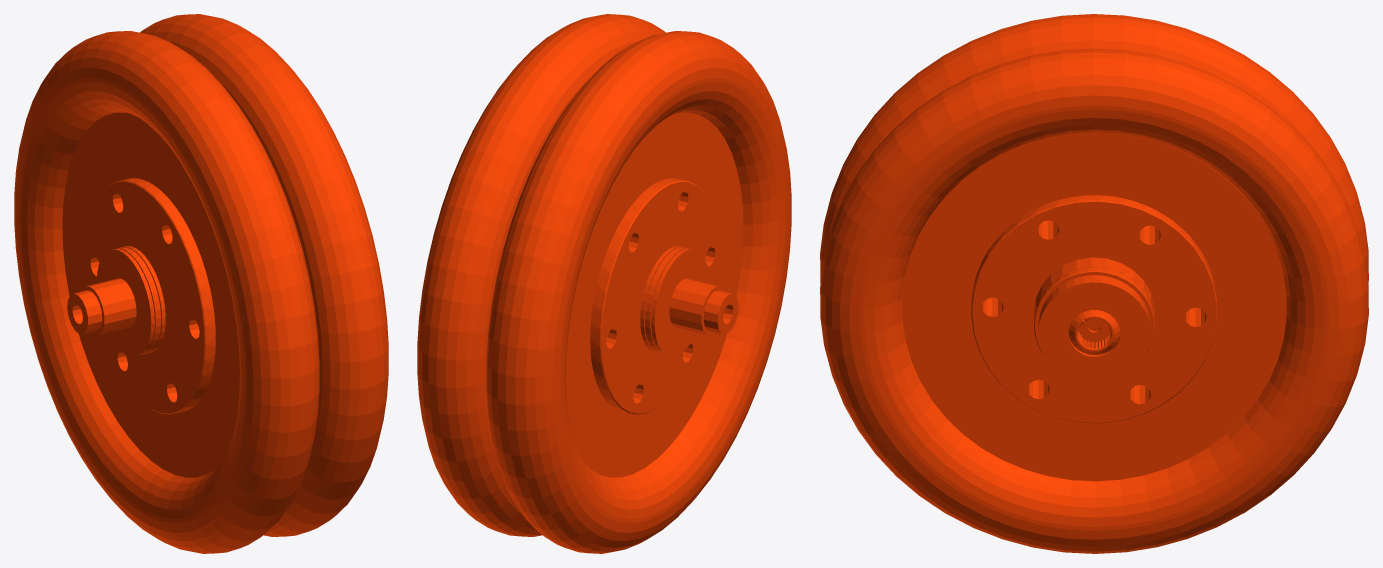
The model's file is wheel_rear_link.dae.
3 views of the same model, side by side, from view 1: azimuth 30°, elevation 25°; view 2: azimuth 150°, elevation 25°; view 3: azimuth 270°, elevation 25° (orthographic). The views are drawn at different scales.
Parts seen in each view (by area): view 1: skpa0a (×9); view 2: skpa0a (×9); view 3: skpa0a (×9).
Part boxes in pixels (<box>): skpa0a (×9): <box>14,14,388,553</box>; skpa0a (×9): <box>417,14,791,553</box>; skpa0a (×9): <box>820,14,1368,553</box>.
Bounding box in the file's own units: 2.42 × 4.99 × 5.
